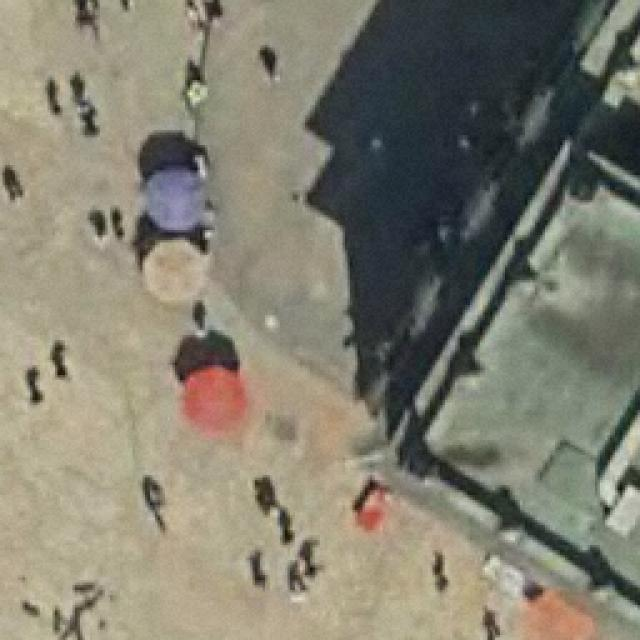vendedor_ambulante: (138, 164, 213, 238), (178, 361, 252, 436), (138, 235, 212, 306)
